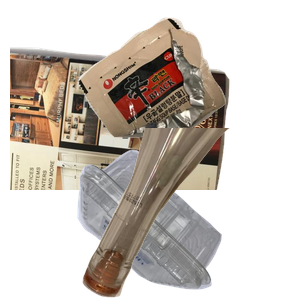glass: (80, 128, 300, 300)
paper: (10, 44, 232, 224)
plastic: (75, 147, 289, 300)
trash: (76, 15, 300, 145)
